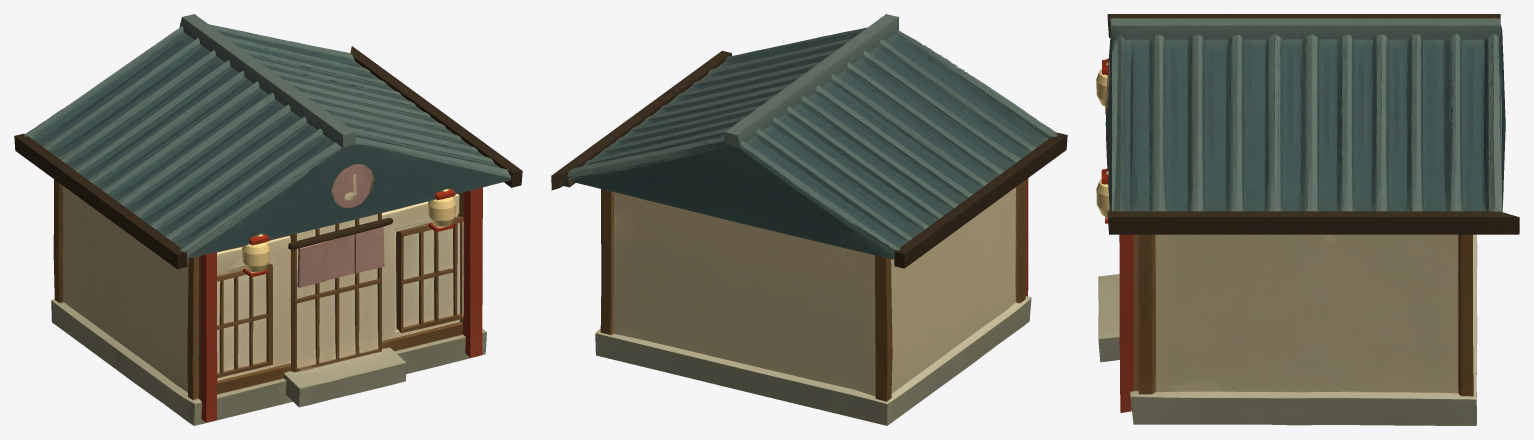
3 views of the same model, side by side, from view 1: azimuth 30°, elevation 25°; view 2: azimuth 150°, elevation 25°; view 3: azimuth 270°, elevation 25° (orthographic). The views are drawn at different scales.
Visible parts, largest first — view 1: model; view 2: model; view 3: model.
Boxes of the visible parts, x1,y1,x2,y2 form: model: (14, 14, 522, 425); model: (551, 14, 1067, 425); model: (1096, 14, 1519, 425).
Size of the model in its own units: 1.9 by 1.39 by 1.67.
Materials: 1 (1 with a texture image).
